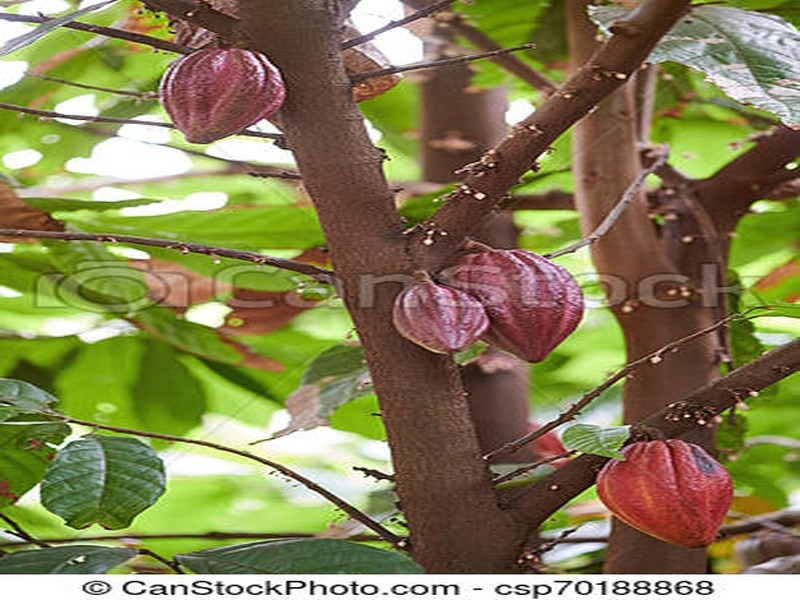Cacaopod: (429, 245, 587, 367), (594, 429, 738, 552), (156, 45, 289, 147), (384, 276, 486, 359)
